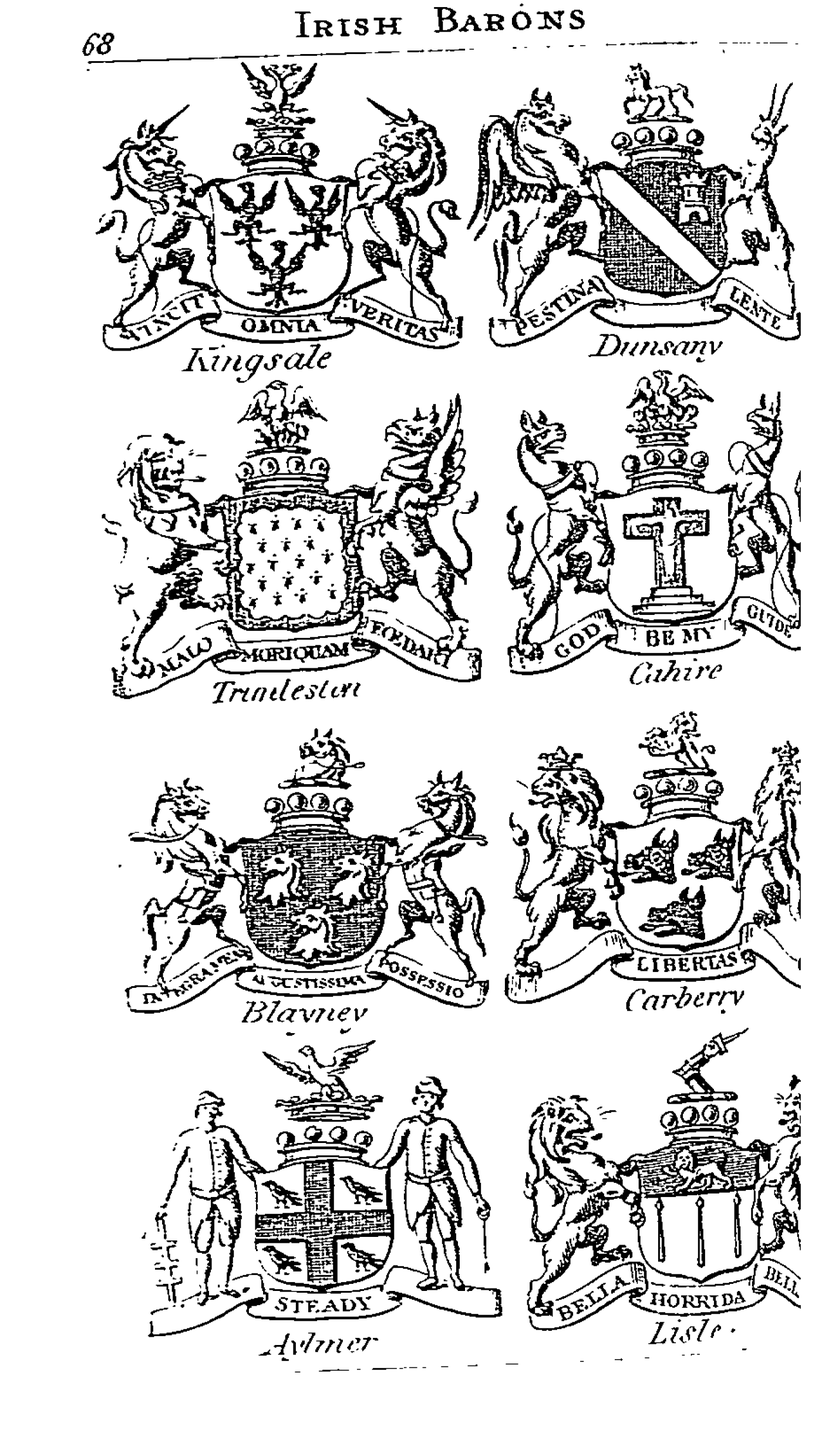coat_of_arms: (92, 381, 498, 712), (132, 1039, 510, 1369), (117, 721, 500, 1035), (92, 66, 465, 377), (500, 363, 811, 693), (506, 696, 822, 1020), (520, 1034, 822, 1358), (473, 62, 802, 359)
